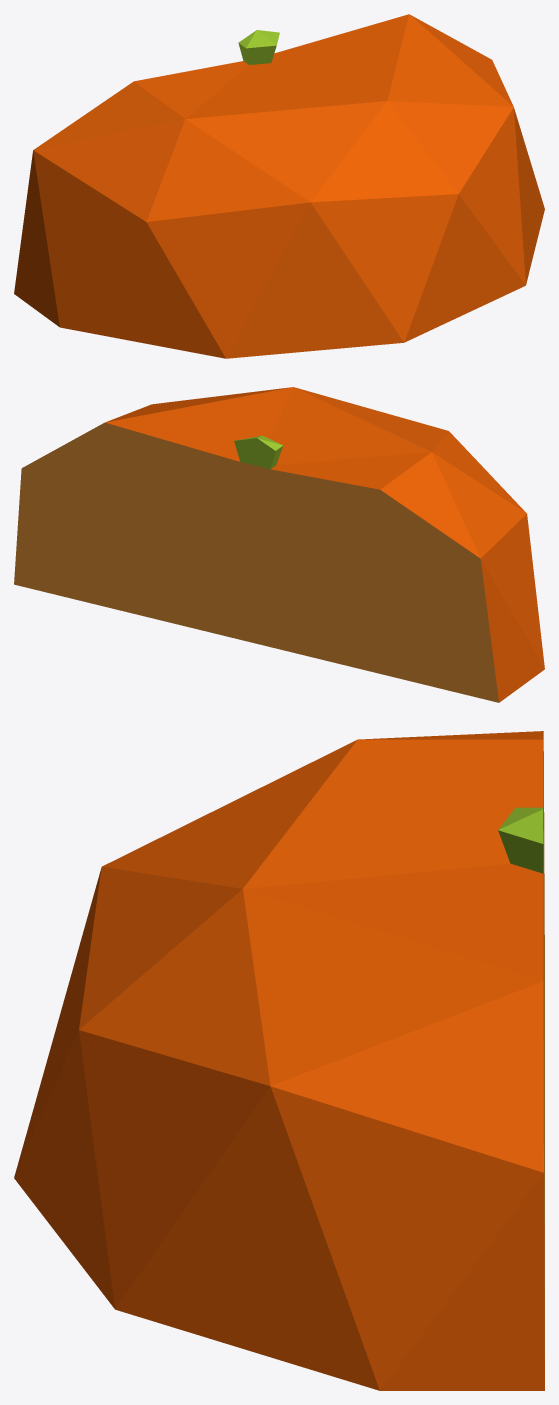
The model's file is OrangeQu2.fbx.
3 renders of one model, top to bottom at view 1: azimuth 30°, elevation 25°; view 2: azimuth 150°, elevation 25°; view 3: azimuth 270°, elevation 25°, orthographic. The views are drawn at different scales.
Parts seen in each view (by area): view 1: OrangeQu2; view 2: OrangeQu2; view 3: OrangeQu2.
Part boxes in pixels (x1=…): OrangeQu2: x1=14, y1=14, x2=544, y2=358; OrangeQu2: x1=14, y1=387, x2=544, y2=702; OrangeQu2: x1=14, y1=731, x2=544, y2=1390.
Bounding box in the file's own units: 194 × 78.51 × 102.
